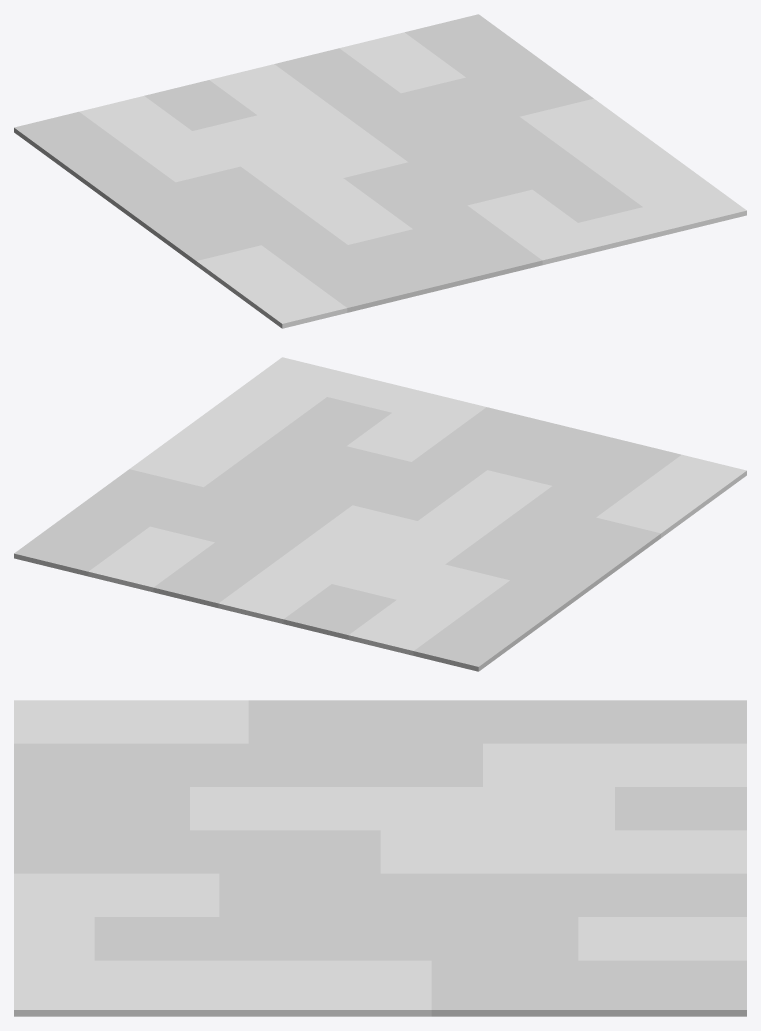
Rendered from plafond.obj.
The picture shows the model from 3 angles, top to bottom: view 1: azimuth 30°, elevation 25°; view 2: azimuth 150°, elevation 25°; view 3: azimuth 270°, elevation 25°; orthographic projection. The views are drawn at different scales.
Bounding box in the file's own units: 100 × 1 × 100.
Materials: 1 (1 with a texture image).
